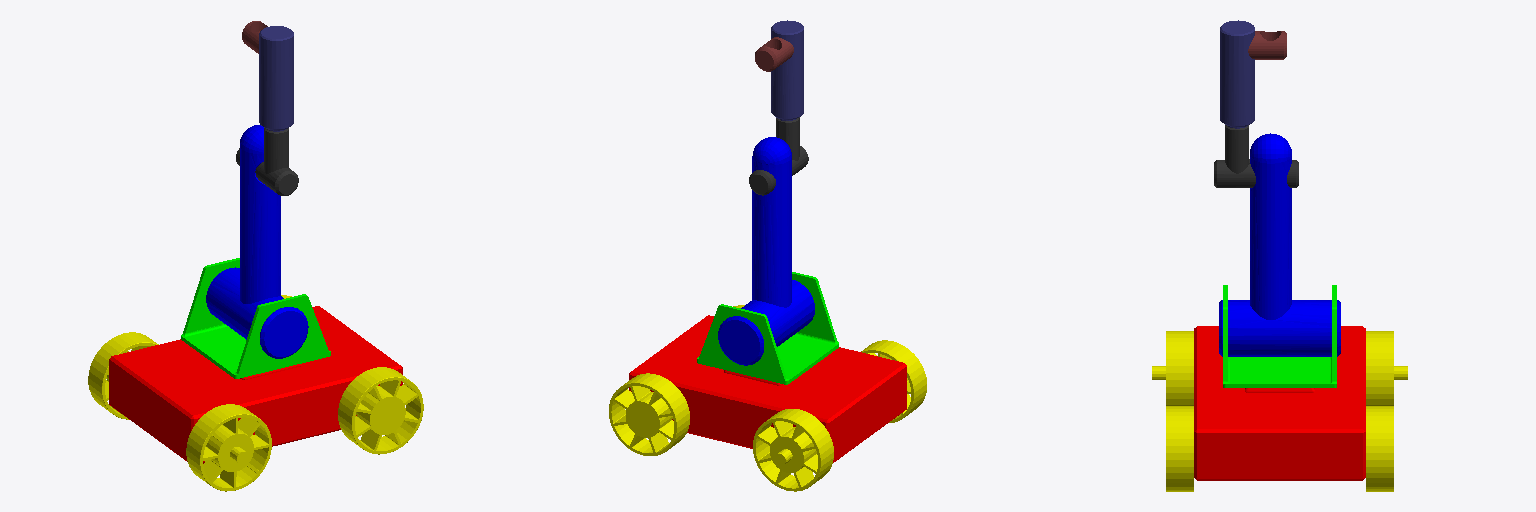
URDF robot description (robot_model):
<?xml version="1.0" ?>
<!-- =================================================================================== -->
<!-- |    This document was autogenerated by xacro from [local-path]/Desktop/TFM/src/robot_model/urdf/robot_model.xacro | -->
<!-- |    EDITING THIS FILE BY HAND IS NOT RECOMMENDED                                 | -->
<!-- =================================================================================== -->
<robot name="robot_model">
    <link name="dummy" />
    <joint name="dummy_joint" type="fixed">
        <parent link="dummy" />
        <child link="base_link" />
    </joint>
    <link name="base_link">
        <inertial>
            <origin rpy="0 0 0" xyz="0 0 0" />
            <mass value="13.189" />
            <inertia ixx="0.44216" ixy="-3.7455E-11" ixz="3.9704E-09" iyy="0.87232" iyz="-2.1794E-05" izz="1.2206" />
        </inertial>
        <visual>
            <origin rpy="0 0 0" xyz="0 0 0" />
            <geometry>
                <mesh filename="package://robot_model/meshes/base_link.STL" />
            </geometry>
            <material name="">
                <color rgba="1 0 0 1" />
            </material>
        </visual>
        <collision>
            <origin rpy="0 0 0" xyz="0 0 0" />
            <geometry>
                <mesh filename="package://robot_model/meshes/base_link.STL" />
            </geometry>
        </collision>
    </link>
    <link name="Link1">
        <inertial>
            <origin rpy="0 0 0" xyz="0 0 0" />
            <mass value="3.2337" />
            <inertia ixx="0.071364" ixy="-9.0285E-09" ixz="3.4807E-10" iyy="0.049192" iyz="1.6935E-08" izz="0.089213" />
        </inertial>
        <visual>
            <origin rpy="0 0 0" xyz="0 0 0" />
            <geometry>
                <mesh filename="package://robot_model/meshes/Link1.STL" />
            </geometry>
            <material name="">
                <color rgba="0 1 0 1" />
            </material>
        </visual>
        <collision>
            <origin rpy="0 0 0" xyz="0 0 0" />
            <geometry>
                <mesh filename="package://robot_model/meshes/Link1.STL" />
            </geometry>
        </collision>
    </link>
    <joint name="Joint1" type="revolute">
        <origin rpy="0 0 0" xyz="0 0 0" />
        <parent link="base_link" />
        <child link="Link1" />
        <axis xyz="0 0 1" />
        <limit effort="100" lower="-3.1416" upper="3.1416" velocity="100" />
    </joint>
    <link name="Link2">
        <inertial>
            <origin rpy="0 0 0" xyz="0 0 0" />
            <mass value="4.7034" />
            <inertia ixx="0.054672" ixy="1.3667E-07" ixz="-0.014278" iyy="0.29069" iyz="5.385E-08" izz="0.25542" />
        </inertial>
        <visual>
            <origin rpy="0 0 0" xyz="0 0 0" />
            <geometry>
                <mesh filename="package://robot_model/meshes/Link2.STL" />
            </geometry>
            <material name="">
                <color rgba="0 0 1 1" />
            </material>
        </visual>
        <collision>
            <origin rpy="0 0 0" xyz="0 0 0" />
            <geometry>
                <mesh filename="package://robot_model/meshes/Link2.STL" />
            </geometry>
        </collision>
    </link>
    <joint name="Joint2" type="revolute">
        <origin rpy="1.5708 -1.5708 0" xyz="0 -0.032 0" />
        <parent link="Link1" />
        <child link="Link2" />
        <axis xyz="0 0 1" />
        <limit effort="100" lower="-3.14159" upper="3.14159" velocity="100" />
    </joint>
    <link name="Link3">
        <inertial>
            <origin rpy="0 0 0" xyz="0 0 0" />
            <mass value="1.398" />
            <inertia ixx="0.010442" ixy="1.0595E-08" ixz="-0.0012119" iyy="0.012215" iyz="-5.6993E-09" izz="0.0035247" />
        </inertial>
        <visual>
            <origin rpy="0 0 0" xyz="0 0 0" />
            <geometry>
                <mesh filename="package://robot_model/meshes/Link3.STL" />
            </geometry>
            <material name="">
                <color rgba="0.25 0.25 0.25 1" />
            </material>
        </visual>
        <collision>
            <origin rpy="0 0 0" xyz="0 0 0" />
            <geometry>
                <mesh filename="package://robot_model/meshes/Link3.STL" />
            </geometry>
        </collision>
    </link>
    <joint name="Joint3" type="revolute">
        <origin rpy="0 0 0" xyz="0.6 0 0" />
        <parent link="Link2" />
        <child link="Link3" />
        <axis xyz="0 0 1" />
        <limit effort="100" lower="-3.14159" upper="3.14159" velocity="100" />
    </joint>
    <link name="Link4">
        <inertial>
            <origin rpy="0 0 0" xyz="0 0 0" />
            <mass value="1.8144" />
            <inertia ixx="0.028059" ixy="4.6E-09" ixz="-1.5764E-09" iyy="0.028173" iyz="-0.0007752" izz="0.0033203" />
        </inertial>
        <visual>
            <origin rpy="0 0 0" xyz="0 0 0" />
            <geometry>
                <mesh filename="package://robot_model/meshes/Link4.STL" />
            </geometry>
            <material name="">
                <color rgba="0.25 0.25 0.5 1" />
            </material>
        </visual>
        <collision>
            <origin rpy="0 0 0" xyz="0 0 0" />
            <geometry>
                <mesh filename="package://robot_model/meshes/Link4.STL" />
            </geometry>
        </collision>
    </link>
    <joint name="Joint4" type="revolute">
        <origin rpy="1.5708 0 1.5708" xyz="0 0 0.1175" />
        <parent link="Link3" />
        <child link="Link4" />
        <axis xyz="0 0 1" />
        <limit effort="100" lower="-3.14159" upper="3.14159" velocity="100" />
    </joint>
    <link name="Link5">
        <inertial>
            <origin rpy="0 0 0" xyz="0 0 0" />
            <mass value="1.1558" />
            <inertia ixx="0.003775" ixy="-1.1827E-09" ixz="-1.2426E-09" iyy="0.0038772" iyz="0.00017257" izz="0.0014527" />
        </inertial>
        <visual>
            <origin rpy="0 0 0" xyz="0 0 0" />
            <geometry>
                <mesh filename="package://robot_model/meshes/Link5.STL" />
            </geometry>
            <material name="">
                <color rgba="0.5 0.25 0.25 1" />
            </material>
        </visual>
        <collision>
            <origin rpy="0 0 0" xyz="0 0 0" />
            <geometry>
                <mesh filename="package://robot_model/meshes/Link5.STL" />
            </geometry>
        </collision>
    </link>
    <joint name="Joint5" type="revolute">
        <origin rpy="-1.5708 0 0" xyz="0 0 0.5" />
        <parent link="Link4" />
        <child link="Link5" />
        <axis xyz="0 0 -1" />
        <limit effort="100" lower="-3.14159" upper="3.14159" velocity="100" />
    </joint>
    <link name="Link6">
        <inertial>
            <origin rpy="0 0 0" xyz="0 0 0" />
            <mass value="1.4646" />
            <inertia ixx="0.0092037" ixy="-3.4431E-20" ixz="1.5284E-19" iyy="0.0093141" iyz="-1.1154E-19" izz="0.0010717" />
        </inertial>
        <visual>
            <origin rpy="0 0 0" xyz="0 0 0" />
            <geometry>
                <mesh filename="package://robot_model/meshes/Link6.STL" />
            </geometry>
            <material name="">
                <color rgba="0.25 0.5 0.25 1" />
            </material>
        </visual>
        <collision>
            <origin rpy="0 0 0" xyz="0 0 0" />
            <geometry>
                <mesh filename="package://robot_model/meshes/Link6.STL" />
            </geometry>
        </collision>
    </link>
    <joint name="Joint6" type="revolute">
        <origin rpy="1.5708 0 0" xyz="0 -0.3857 -0.1175" />
        <parent link="Link5" />
        <child link="Link6" />
        <axis xyz="0 0 1" />
        <limit effort="100" lower="-3.14159" upper="3.14159" velocity="100" />
    </joint>
    <link name="link_leftFrontWheel">
        <inertial>
            <origin rpy="0 0 0" xyz="-5.5511E-17 2.2204E-16 0.002106" />
            <mass value="1.0489" />
            <inertia ixx="0.006146" ixy="2.1218E-17" ixz="1.1965E-18" iyy="0.006146" iyz="2.407E-19" izz="0.010259" />
        </inertial>
        <visual>
            <origin rpy="0 0 0" xyz="0 0 0" />
            <geometry>
                <mesh filename="package://robot_model/meshes/link_leftFrontWheel.STL" />
            </geometry>
            <material name="">
                <color rgba="0.93 0.93 0 1" />
            </material>
        </visual>
        <collision>
            <origin rpy="0 0 0" xyz="0 0 0" />
            <geometry>
                <mesh filename="package://robot_model/meshes/link_leftFrontWheel.STL" />
            </geometry>
        </collision>
    </link>
    <joint name="joint_leftFrontWheel" type="continuous">
        <origin rpy="1.5708 0 0" xyz="0.315 0.3525 -0.32235" />
        <parent link="base_link" />
        <child link="link_leftFrontWheel" />
        <axis xyz="0 0 1" />
    </joint>
    <link name="link__rightFrontWheel">
        <inertial>
            <origin rpy="0 0 0" xyz="0 -2.2204E-16 -0.002106" />
            <mass value="1.0489" />
            <inertia ixx="0.006146" ixy="-2.0382E-17" ixz="-7.0505E-19" iyy="0.006146" iyz="1.0064E-18" izz="0.010259" />
        </inertial>
        <visual>
            <origin rpy="0 0 0" xyz="0 0 0" />
            <geometry>
                <mesh filename="package://robot_model/meshes/link__rightFrontWheel.STL" />
            </geometry>
            <material name="">
                <color rgba="0.93 0.93 0 1" />
            </material>
        </visual>
        <collision>
            <origin rpy="0 0 0" xyz="0 0 0" />
            <geometry>
                <mesh filename="package://robot_model/meshes/link__rightFrontWheel.STL" />
            </geometry>
        </collision>
    </link>
    <joint name="joint__rightFrontWheel" type="continuous">
        <origin rpy="1.5708 0 0" xyz="0.315 -0.3525 -0.32235" />
        <parent link="base_link" />
        <child link="link__rightFrontWheel" />
        <axis xyz="0 0 -1" />
    </joint>
    <link name="link__rightRearWheel">
        <inertial>
            <origin rpy="0 0 0" xyz="-2.2204E-16 -1.1102E-16 0.002106" />
            <mass value="1.0489" />
            <inertia ixx="0.006146" ixy="-8.1049E-18" ixz="-3.7604E-19" iyy="0.006146" iyz="-5.8935E-19" izz="0.010259" />
        </inertial>
        <visual>
            <origin rpy="0 0 0" xyz="0 0 0" />
            <geometry>
                <mesh filename="package://robot_model/meshes/link__rightRearWheel.STL" />
            </geometry>
            <material name="">
                <color rgba="0.93 0.93 0 1" />
            </material>
        </visual>
        <collision>
            <origin rpy="0 0 0" xyz="0 0 0" />
            <geometry>
                <mesh filename="package://robot_model/meshes/link__rightRearWheel.STL" />
            </geometry>
        </collision>
    </link>
    <joint name="joint__rightRearWheel" type="continuous">
        <origin rpy="1.5708 0 0" xyz="-0.315 0.3525 -0.32235" />
        <parent link="base_link" />
        <child link="link__rightRearWheel" />
        <axis xyz="0 0 1" />
        <limit effort="100" lower="0" upper="0" velocity="100" />
    </joint>
    <link name="link__leftRearWheel">
        <inertial>
            <origin rpy="0 0 0" xyz="0 -1.9429E-16 -0.002106" />
            <mass value="1.0489" />
            <inertia ixx="0.006146" ixy="-2.0871E-17" ixz="-4.7748E-19" iyy="0.006146" iyz="8.2626E-19" izz="0.010259" />
        </inertial>
        <visual>
            <origin rpy="0 0 0" xyz="0 0 0" />
            <geometry>
                <mesh filename="package://robot_model/meshes/link__leftRearWheel.STL" />
            </geometry>
            <material name="">
                <color rgba="0.93 0.93 0 1" />
            </material>
        </visual>
        <collision>
            <origin rpy="0 0 0" xyz="0 0 0" />
            <geometry>
                <mesh filename="package://robot_model/meshes/link__leftRearWheel.STL" />
            </geometry>
        </collision>
    </link>
    <joint name="joint__leftRearWheel" type="continuous">
        <origin rpy="1.5708 0 0" xyz="-0.315 -0.3525 -0.32235" />
        <parent link="base_link" />
        <child link="link__leftRearWheel" />
        <axis xyz="0 0 -1" />
        <limit effort="100" lower="0" upper="0" velocity="100" />
    </joint>
    <gazebo reference="base_link">
        <material>Gazebo/Red</material>
        <self_collide>1</self_collide>
        <plugin name="gazebo_ros_control">
            <robotNamespace>/</robotNamespace>
        </plugin>
    </gazebo>
    <gazebo reference="link__leftRearWheel">
        <material>Gazebo/Yellow</material>
        <self_collide>1</self_collide>
        <mu1>0.2</mu1>
        <mu2>0.2</mu2>
    </gazebo>
    <gazebo reference="link__rightRearWheel">
        <material>Gazebo/Yellow</material>
        <self_collide>1</self_collide>
        <mu1>0.2</mu1>
        <mu2>0.2</mu2>
    </gazebo>
    <gazebo reference="link_leftFrontWheel">
        <material>Gazebo/Yellow</material>
        <self_collide>1</self_collide>
        <mu1>0.2</mu1>
        <mu2>0.2</mu2>
    </gazebo>
    <gazebo reference="link__rightFrontWheel">
        <material>Gazebo/Yellow</material>
        <self_collide>1</self_collide>
        <mu1>0.2</mu1>
        <mu2>0.2</mu2>
    </gazebo>
    <gazebo reference="Link1">
        <material>Gazebo/Green</material>
        <self_collide>1</self_collide>
    </gazebo>
    <gazebo reference="Link2">
        <material>Gazebo/Blue</material>
        <self_collide>1</self_collide>
    </gazebo>
    <gazebo reference="Link3">
        <material>Gazebo/SkyBlue</material>
        <self_collide>1</self_collide>
    </gazebo>
    <gazebo reference="Link4">
        <material>Gazebo/Purple</material>
        <self_collide>1</self_collide>
    </gazebo>
    <gazebo reference="Link5">
        <material>Gazebo/Orange</material>
        <self_collide>1</self_collide>
    </gazebo>
    <gazebo reference="Link6">
        <material>Gazebo/RedBright</material>
        <self_collide>1</self_collide>
    </gazebo>
    <gazebo>
        <plugin filename="libgazebo_ros_skid_steer_drive.so" name="skid_steer_drive_controller">
            <always_on>1</always_on>
            <updateRate>100.0</updateRate>
            <robotNamespace>/</robotNamespace>
            <leftFrontJoint>joint_leftFrontWheel</leftFrontJoint>
            <rightFrontJoint>joint__rightFrontWheel</rightFrontJoint>
            <leftRearJoint>joint__leftRearWheel</leftRearJoint>
            <rightRearJoint>joint__rightRearWheel</rightRearJoint>
            <wheelSeparation>0.615</wheelSeparation>
            <wheelDiameter>0.300</wheelDiameter>
            <torque>1000</torque>
            <commandTopic>cmd_vel</commandTopic>
            <odometryTopic>odom</odometryTopic>
            <odometryFrame>odom</odometryFrame>
            <robotBaseFrame>dummy</robotBaseFrame>
            <publishWheelTF>true</publishWheelTF>
            <publishOdomTF>true</publishOdomTF>
            <publishWheelJointState>true</publishWheelJointState>
            <covariance_x>0.0001</covariance_x>
            <covariance_y>0.0001</covariance_y>
            <covariance_yaw>0.01</covariance_yaw>
            <broadcastTF>true</broadcastTF>
        </plugin>
    </gazebo>
    <gazebo reference="base_link">
        <sensor name="sensor_imu" type="imu">
            <always_on>1</always_on>
            <update_rate>100</update_rate>
            <visualize>true</visualize>
            <plugin filename="libgazebo_ros_imu_sensor.so" name="imu_plugin">
                <topicName>/imu/data</topicName>
                <frameName>imu_frame</frameName>
                <updateRateHZ>100.0</updateRateHZ>
                <gaussianNoise>0.0</gaussianNoise>
                <xyzOffset>0 0 0</xyzOffset>
                <rpyOffset>0 0 0</rpyOffset>
            </plugin>
        </sensor>
    </gazebo>
    <transmission name="link_1_trans">
        <type>transmission_interface/SimpleTransmission</type>
        <joint name="Joint1">
            <hardwareInterface>hardware_interface/PositionJointInterface</hardwareInterface>
        </joint>
        <actuator name="link_1_motor">
            <hardwareInterface>hardware_interface/PositionJointInterface</hardwareInterface>
            <mechanicalReduction>1</mechanicalReduction>
        </actuator>
    </transmission>
    <transmission name="link_2_trans">
        <type>transmission_interface/SimpleTransmission</type>
        <joint name="Joint2">
            <hardwareInterface>hardware_interface/PositionJointInterface</hardwareInterface>
        </joint>
        <actuator name="link_2_motor">
            <hardwareInterface>hardware_interface/PositionJointInterface</hardwareInterface>
            <mechanicalReduction>1</mechanicalReduction>
        </actuator>
    </transmission>
    <transmission name="link_3_trans">
        <type>transmission_interface/SimpleTransmission</type>
        <joint name="Joint3">
            <hardwareInterface>hardware_interface/PositionJointInterface</hardwareInterface>
        </joint>
        <actuator name="link_3_motor">
            <hardwareInterface>hardware_interface/PositionJointInterface</hardwareInterface>
            <mechanicalReduction>1</mechanicalReduction>
        </actuator>
    </transmission>
    <transmission name="link_4_trans">
        <type>transmission_interface/SimpleTransmission</type>
        <joint name="Joint4">
            <hardwareInterface>hardware_interface/PositionJointInterface</hardwareInterface>
        </joint>
        <actuator name="link_4_motor">
            <hardwareInterface>hardware_interface/PositionJointInterface</hardwareInterface>
            <mechanicalReduction>1</mechanicalReduction>
        </actuator>
    </transmission>
    <transmission name="link_5_trans">
        <type>transmission_interface/SimpleTransmission</type>
        <joint name="Joint5">
            <hardwareInterface>hardware_interface/PositionJointInterface</hardwareInterface>
        </joint>
        <actuator name="link_5_motor">
            <hardwareInterface>hardware_interface/PositionJointInterface</hardwareInterface>
            <mechanicalReduction>1</mechanicalReduction>
        </actuator>
    </transmission>
    <transmission name="link_6_trans">
        <type>transmission_interface/SimpleTransmission</type>
        <joint name="Joint6">
            <hardwareInterface>hardware_interface/PositionJointInterface</hardwareInterface>
        </joint>
        <actuator name="link_6_motor">
            <hardwareInterface>hardware_interface/PositionJointInterface</hardwareInterface>
            <mechanicalReduction>1</mechanicalReduction>
        </actuator>
    </transmission>
    <gazebo>
        <plugin filename="libgazebo_ros_control.so" name="gazebo_ros_control">
            <robotNamespace>/</robotNamespace>
        </plugin>
    </gazebo>
</robot>

--- Render facts (derived) ---
3 views of the same robot in one strip: view 1: azimuth 30°, elevation 25°; view 2: azimuth 150°, elevation 25°; view 3: azimuth 270°, elevation 25° (orthographic).
Robot: robot_model — 12 links, 11 joints (6 revolute, 4 continuous, 1 fixed); root link dummy; default pose: all joints at 0.
Links seen in each view (by area): view 1: base_link, Link2, Link1, link__leftRearWheel, link__rightFrontWheel, Link4, Link3, link__rightRearWheel; view 2: base_link, Link2, Link1, link_leftFrontWheel, link__rightRearWheel, Link4, link__leftRearWheel, Link3, Link5; view 3: base_link, Link2, Link1, Link4, link_leftFrontWheel, link__rightFrontWheel, link__rightRearWheel, link__leftRearWheel, Link3, Link5.
Link boxes in pixels (x1,y1,x2,y2): base_link: [109, 306, 402, 463]; Link2: [206, 125, 308, 358]; Link1: [181, 258, 330, 378]; link__leftRearWheel: [186, 404, 271, 491]; link__rightFrontWheel: [338, 367, 423, 454]; Link4: [259, 26, 293, 131]; Link3: [236, 128, 298, 195]; link__rightRearWheel: [88, 332, 158, 419]; base_link: [629, 315, 906, 462]; Link2: [718, 137, 814, 365]; Link1: [697, 272, 838, 384]; link_leftFrontWheel: [609, 373, 689, 455]; link__rightRearWheel: [753, 409, 833, 491]; Link4: [771, 20, 803, 120]; link__leftRearWheel: [861, 340, 926, 422]; Link3: [749, 117, 808, 195]; Link5: [755, 37, 793, 71]; base_link: [1194, 326, 1365, 480]; Link2: [1219, 133, 1340, 356]; Link1: [1223, 285, 1336, 387]; Link4: [1220, 20, 1254, 128]; link_leftFrontWheel: [1366, 406, 1393, 491]; link__rightFrontWheel: [1166, 406, 1193, 491]; link__rightRearWheel: [1366, 331, 1407, 405]; link__leftRearWheel: [1152, 331, 1193, 405]; Link3: [1214, 125, 1298, 187]; Link5: [1248, 31, 1286, 59].
Size in the robot's own frame: 0.9298 by 0.905 by 1.64 metres.
Meshes: 11 distinct files referenced, 10 mesh visuals loaded (10 binary STL); not drawn: 1 (reference not matched to a file when rendering).
